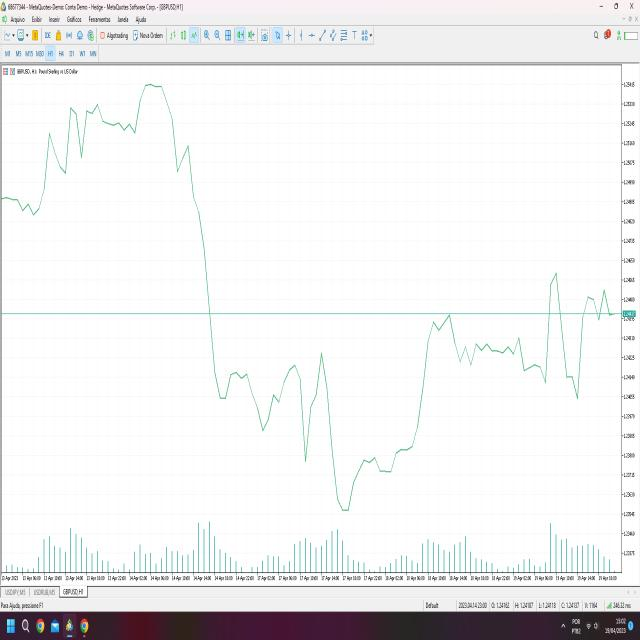bandeira_baixa: (180, 118, 294, 450)
